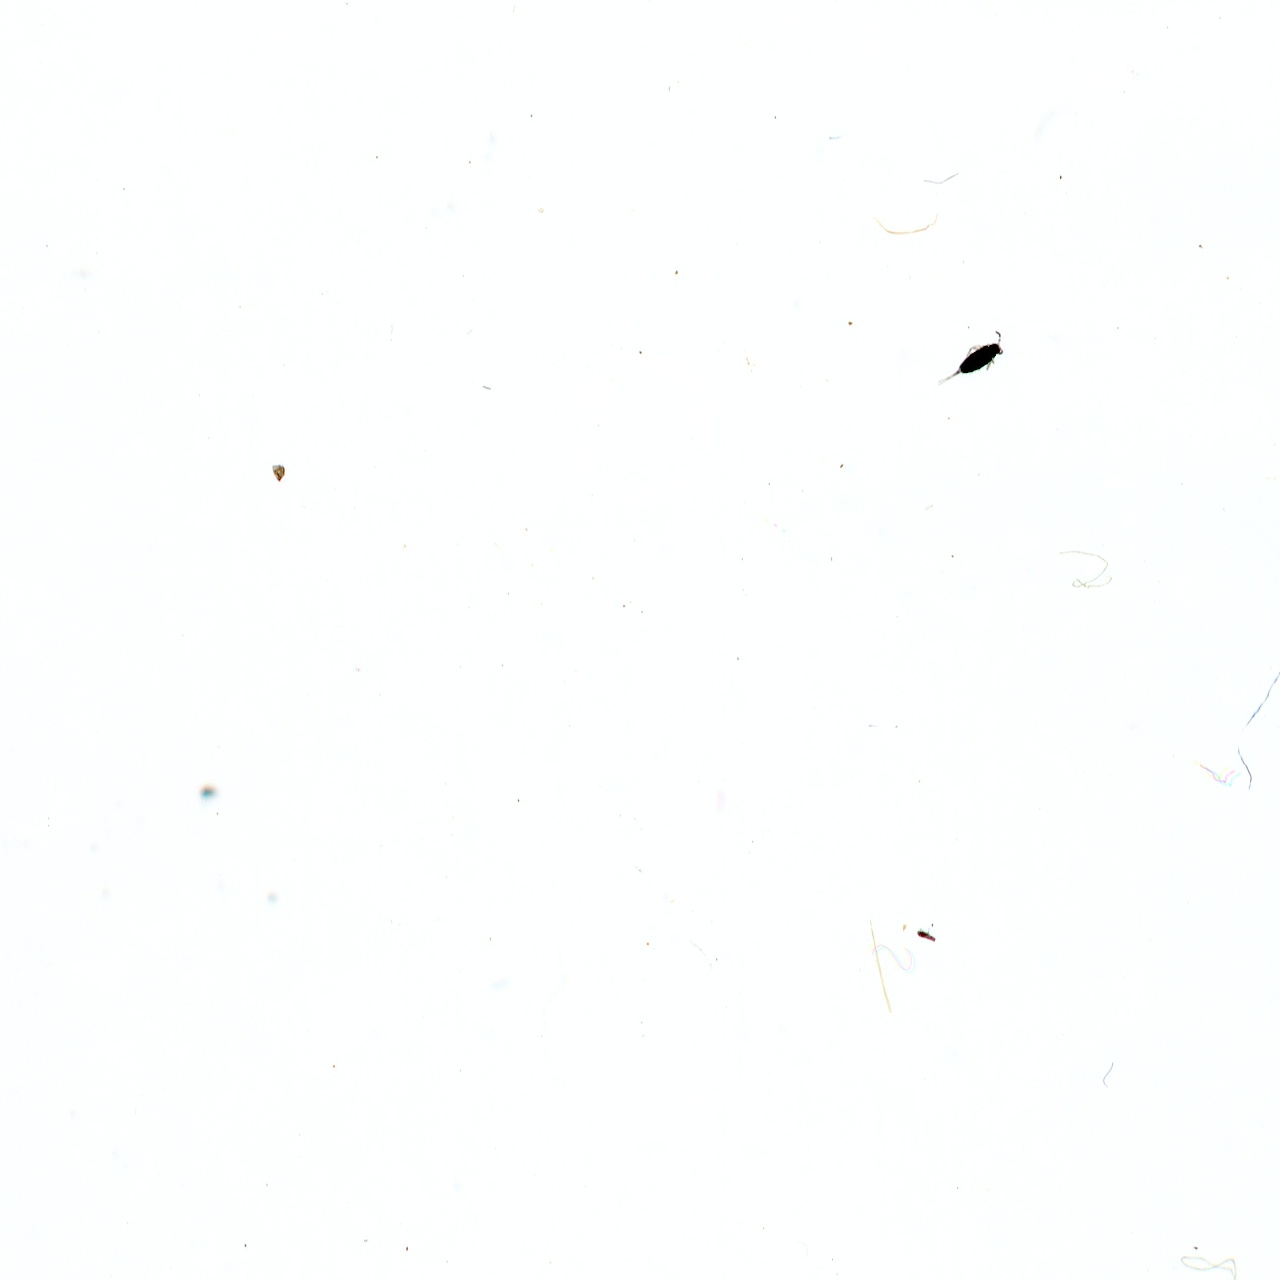arthropod: (930, 326, 1014, 390)
